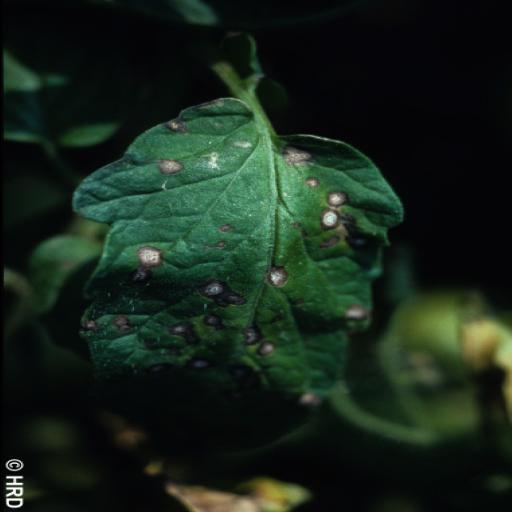disease_tomato: (63, 96, 401, 456)
